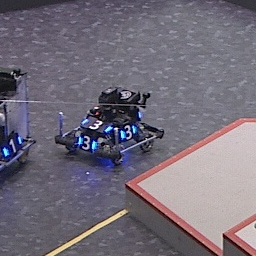Blue: (81, 117, 112, 135), (1, 134, 23, 157), (76, 135, 98, 153), (119, 122, 138, 139)
Robot: (56, 85, 163, 163), (1, 64, 35, 175)
